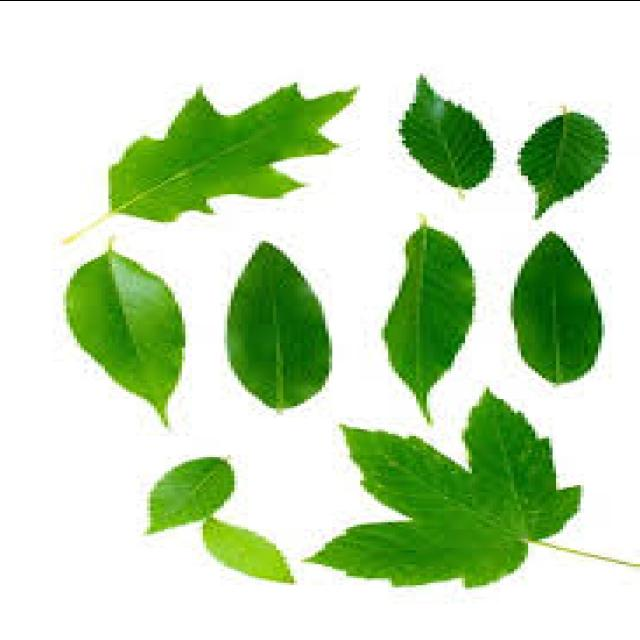leaves: (312, 393, 580, 586), (111, 85, 354, 220), (70, 251, 185, 419), (151, 457, 292, 581), (230, 243, 332, 406), (389, 227, 475, 404), (513, 233, 602, 381), (402, 79, 492, 187), (521, 113, 606, 215)
